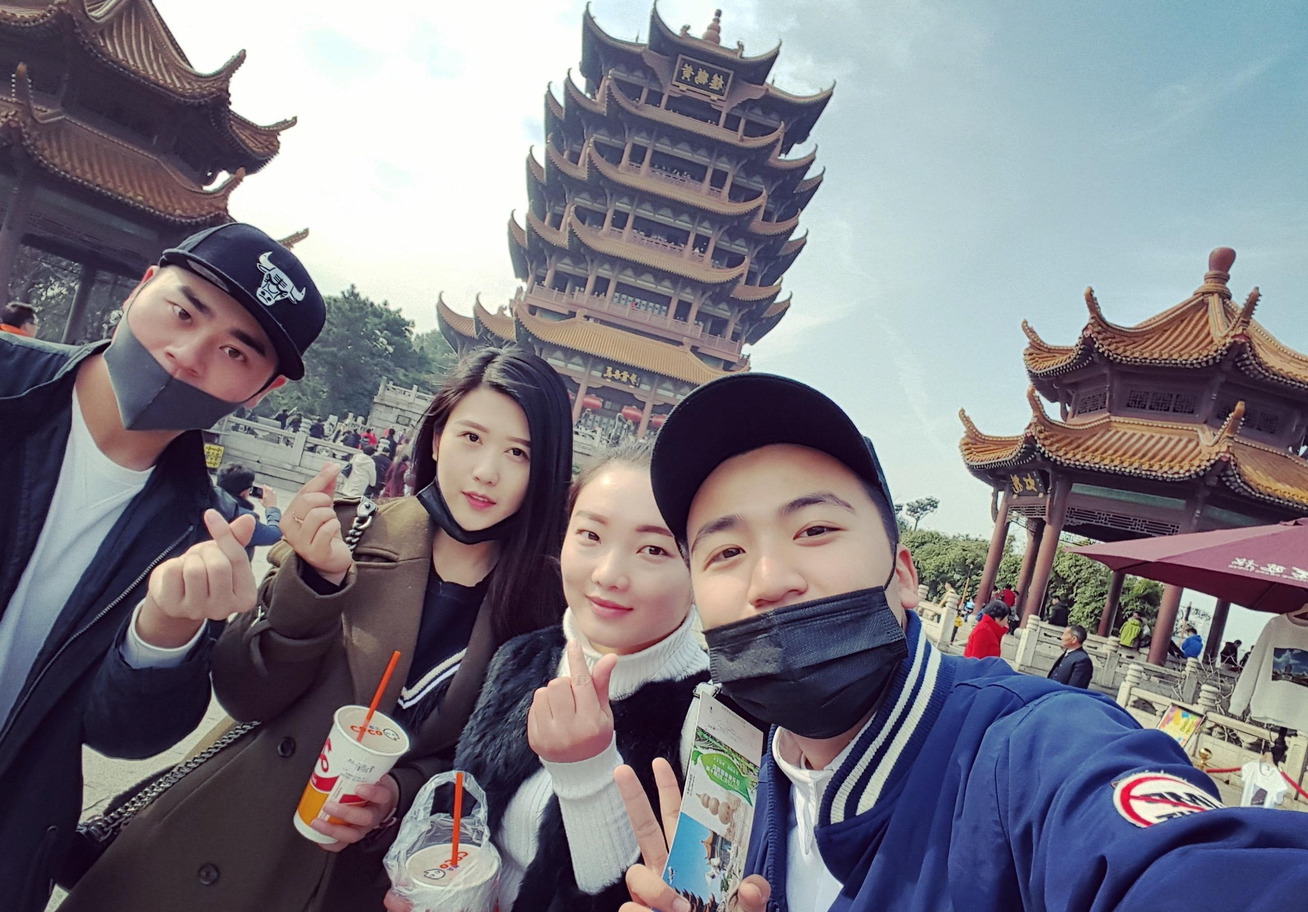NONE: (562, 495, 675, 644)
WRONG: (678, 479, 914, 735), (113, 283, 261, 427), (430, 412, 538, 541)
